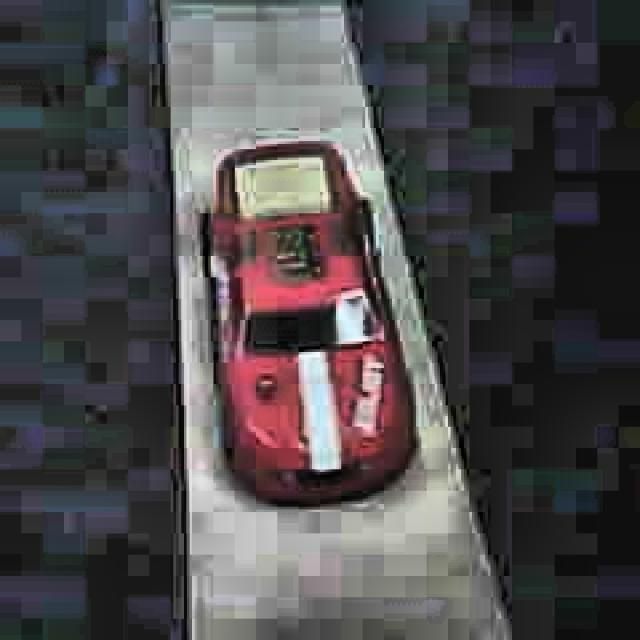car: (195, 135, 422, 513)
